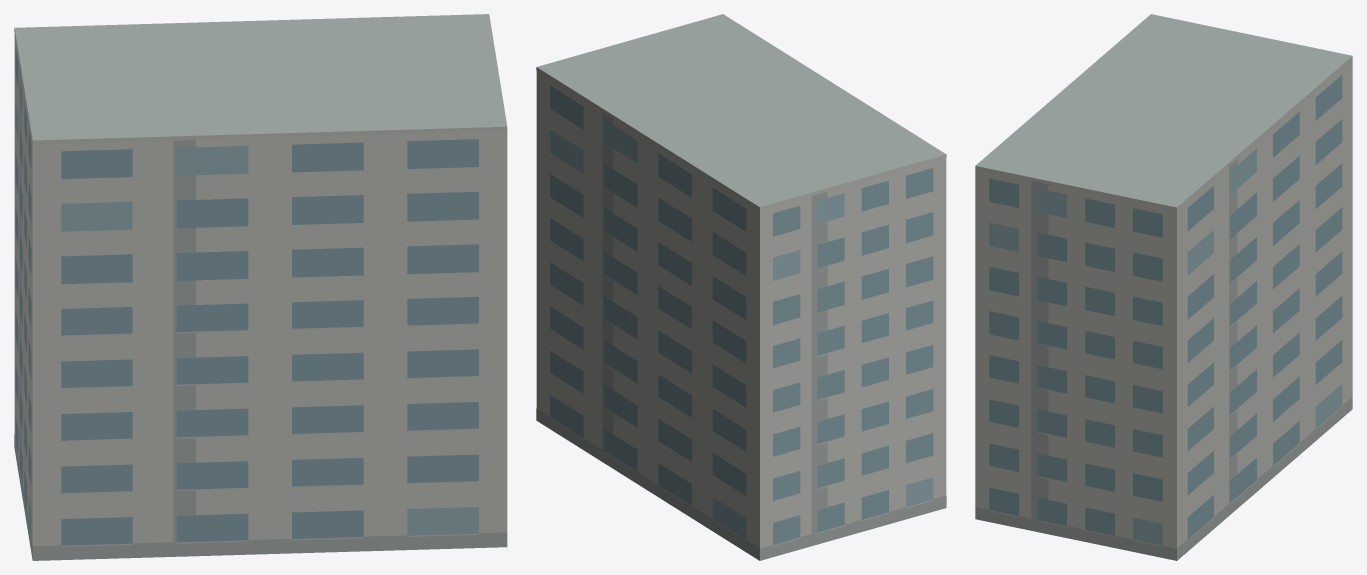
The model's file is residential-0650c3de-6960-4d6f-b6e0-ff84746f2933.glb.
3 views of the same model, side by side, from view 1: azimuth 30°, elevation 25°; view 2: azimuth 150°, elevation 25°; view 3: azimuth 270°, elevation 25° (orthographic). The views are drawn at different scales.
Visible parts, largest first — view 1: residential-0650c3de-6960-4d6f-b6e0-ff84746f2933.tmp; view 2: residential-0650c3de-6960-4d6f-b6e0-ff84746f2933.tmp; view 3: residential-0650c3de-6960-4d6f-b6e0-ff84746f2933.tmp.
Part boxes in pixels (bbox=[...]): residential-0650c3de-6960-4d6f-b6e0-ff84746f2933.tmp: bbox=[14, 14, 507, 560]; residential-0650c3de-6960-4d6f-b6e0-ff84746f2933.tmp: bbox=[536, 14, 946, 560]; residential-0650c3de-6960-4d6f-b6e0-ff84746f2933.tmp: bbox=[975, 14, 1352, 560].
Size of the model in its own units: 28.67 by 24.4 by 23.63.
